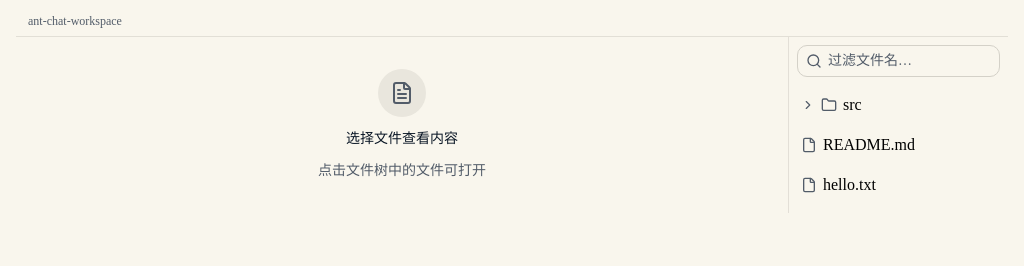
it: filesPanel › 渲染根目录并在展开目录时懒加载子条目
The image size is (1024, 266).
Expected: the button "README.md" is shown, [789,125,1008,165]
Step 1. Click the button "src" → coordinates (898, 105), box [789,85,1008,125]
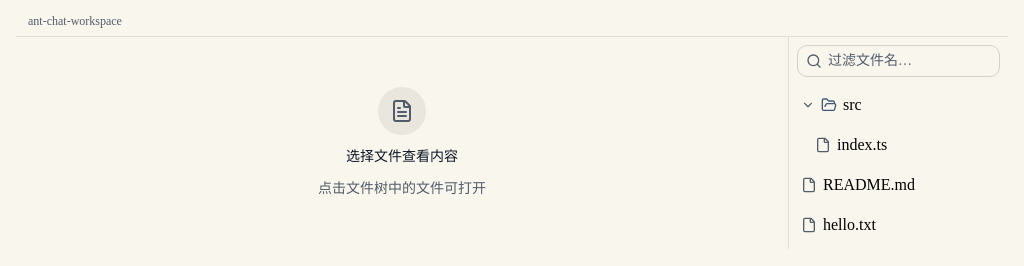
Expected: the button "index.ts" is shown, [803,125,1008,165]
Expected: the button "src" is expanded, [789,85,1008,125]
